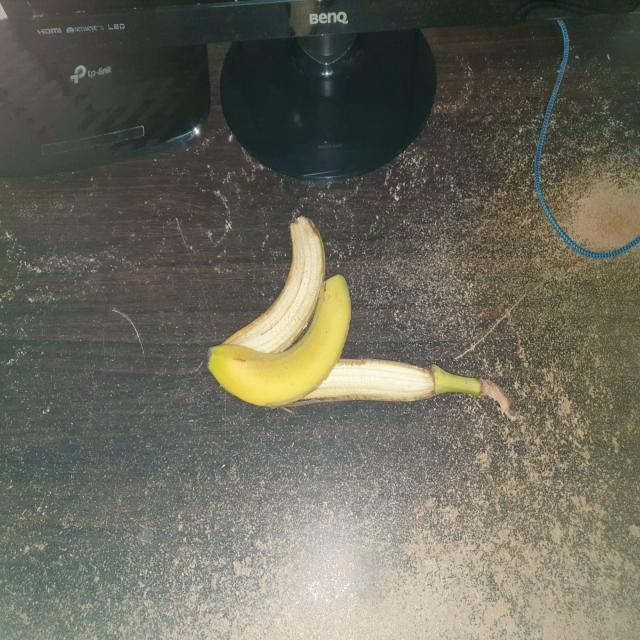banana-peel: (204, 205, 515, 418)
